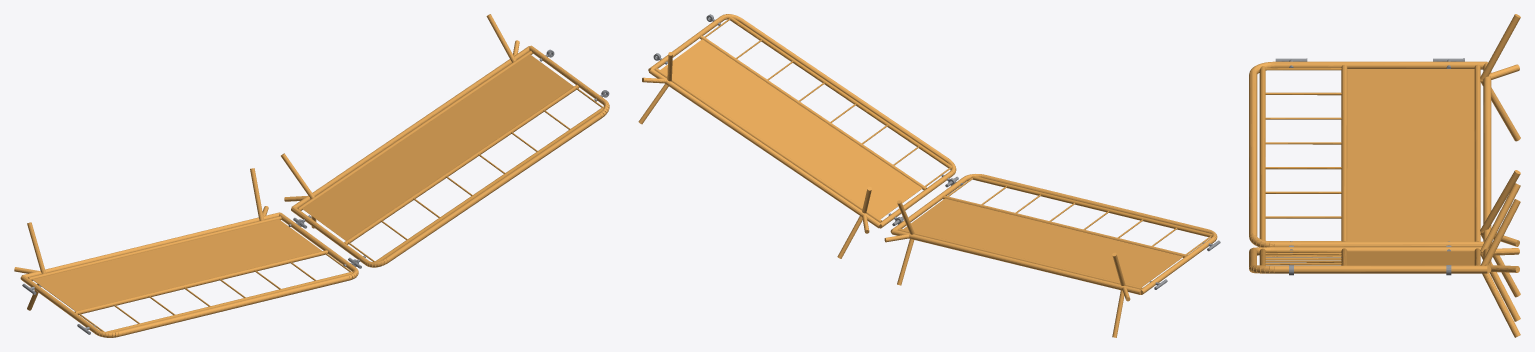
The model's file is component-panel_style-solid_half_panel.glb.
The picture shows the model from 3 angles, left to right: view 1: azimuth 30°, elevation 25°; view 2: azimuth 150°, elevation 25°; view 3: azimuth 270°, elevation 25°; orthographic projection. The views are drawn at different scales.
Parts seen in each view (by area): view 1: panel_0__infill, panel_0__frame, panel_0__infill_upper, panel_0__eye_top; view 2: panel_0__infill, panel_0__frame, panel_0__infill_upper, panel_0__eye_top; view 3: panel_0__infill, panel_0__frame, panel_0__infill_upper, panel_0__eye_top.
Boxes of the visible parts, x1,y1,x2,y2 form: panel_0__infill: [28, 50, 579, 314]; panel_0__frame: [14, 14, 609, 337]; panel_0__infill_upper: [78, 88, 604, 332]; panel_0__eye_top: [22, 49, 609, 334]; panel_0__infill: [655, 35, 1187, 289]; panel_0__frame: [638, 14, 1217, 337]; panel_0__infill_upper: [704, 16, 1212, 254]; panel_0__eye_top: [653, 14, 1220, 289]; panel_0__infill: [1341, 64, 1480, 265]; panel_0__frame: [1249, 14, 1520, 337]; panel_0__infill_upper: [1259, 66, 1341, 265]; panel_0__eye_top: [1275, 58, 1464, 275].
Size of the model in its own units: 4.09 by 1.37 by 1.28.
